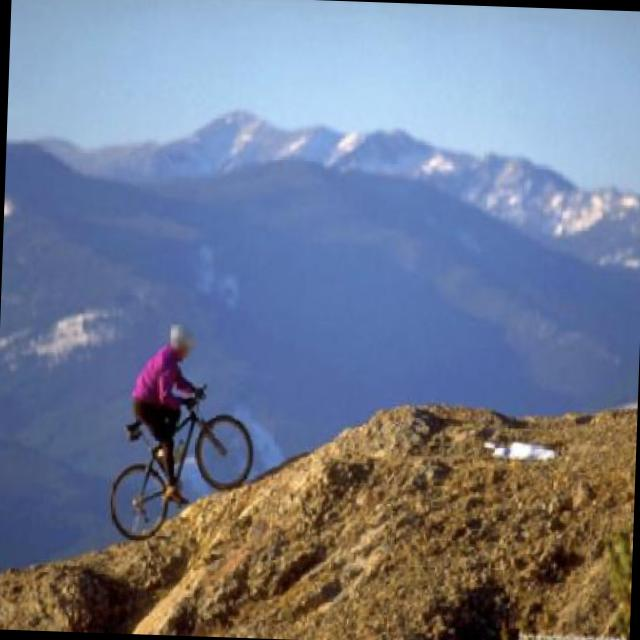With Helmet: (168, 324, 197, 361)
